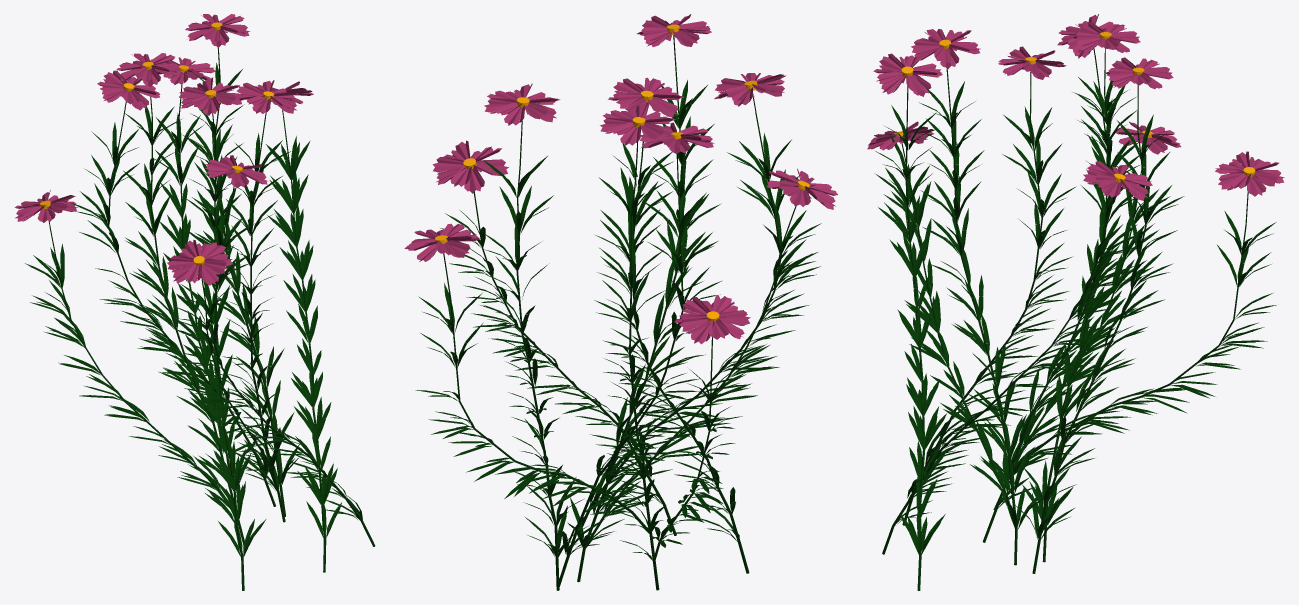
The picture shows the model from 3 angles, left to right: view 1: azimuth 30°, elevation 25°; view 2: azimuth 150°, elevation 25°; view 3: azimuth 270°, elevation 25°; orthographic projection. The views are drawn at different scales.
Visible parts, largest first — view 1: leaves2, leaves3, petals3, stems1, leaves1, petals2, middle; view 2: leaves2, petals3, stems1, leaves3, petals2, leaves1, middle; view 3: leaves2, leaves3, stems1, petals3, leaves1, petals2, middle.
Part boxes in pixels (x1=…): leaves2: x1=34, y1=72, x2=361, y2=546; leaves3: x1=25, y1=63, x2=352, y2=528; petals3: x1=14, y1=14, x2=312, y2=283; stems1: x1=49, y1=48, x2=375, y2=590; leaves1: x1=54, y1=102, x2=362, y2=556; petals2: x1=15, y1=17, x2=313, y2=285; middle: x1=40, y1=22, x2=274, y2=266; leaves2: x1=425, y1=90, x2=810, y2=555; petals3: x1=407, y1=14, x2=837, y2=339; stems1: x1=445, y1=56, x2=794, y2=590; leaves3: x1=415, y1=80, x2=821, y2=553; petals2: x1=404, y1=20, x2=835, y2=344; leaves1: x1=447, y1=115, x2=789, y2=560; middle: x1=435, y1=24, x2=809, y2=321; leaves2: x1=883, y1=80, x2=1267, y2=543; leaves3: x1=874, y1=77, x2=1276, y2=525; stems1: x1=882, y1=56, x2=1248, y2=590; petals3: x1=868, y1=14, x2=1278, y2=195; leaves1: x1=894, y1=104, x2=1248, y2=554; petals2: x1=867, y1=21, x2=1284, y2=200; middle: x1=894, y1=32, x2=1255, y2=183.
Size of the model in its own units: 57.53 by 94.57 by 69.94.
